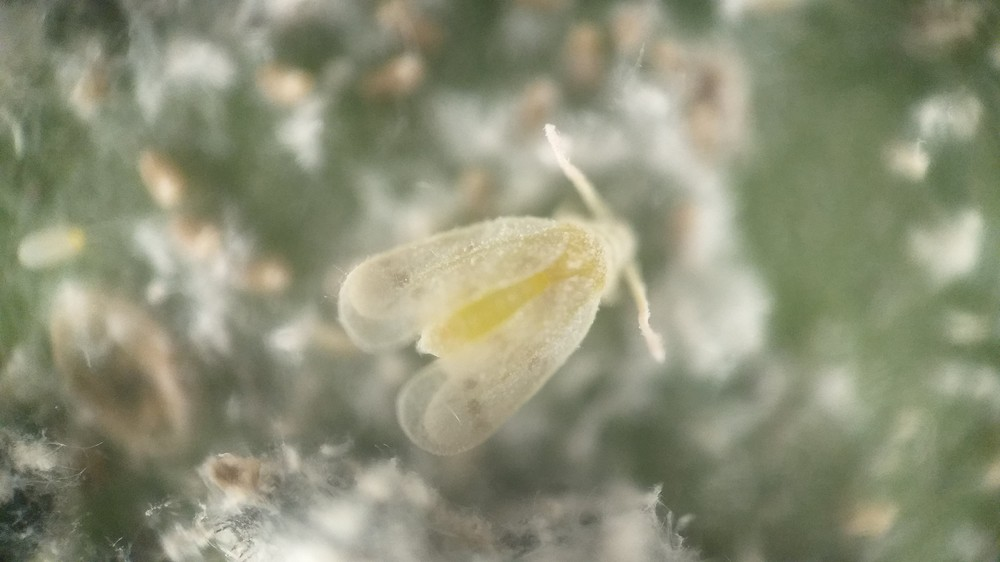Mosca Blanca: (321, 115, 698, 473)
